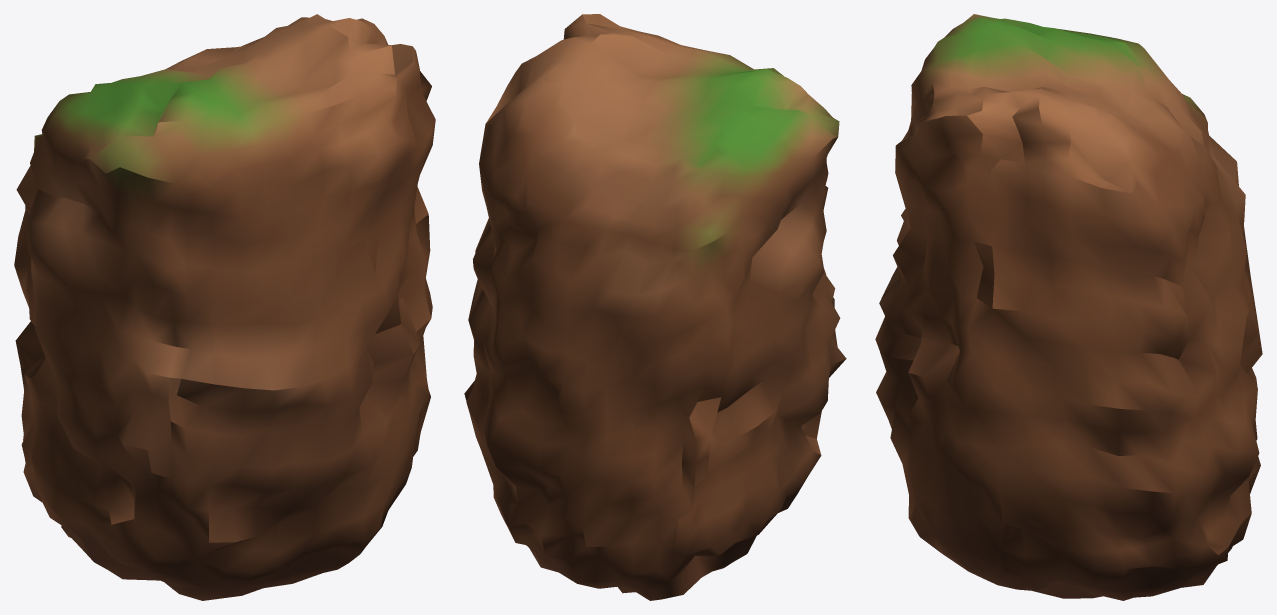
The model's file is canopy_bark_chip_c.glb.
3 renders of one model, left to right at view 1: azimuth 30°, elevation 25°; view 2: azimuth 150°, elevation 25°; view 3: azimuth 270°, elevation 25°, orthographic. The views are drawn at different scales.
Visible parts, largest first — view 1: canopy_bark_chip_c; view 2: canopy_bark_chip_c; view 3: canopy_bark_chip_c.
Part boxes in pixels (<box>): canopy_bark_chip_c: <box>14,14,435,600</box>; canopy_bark_chip_c: <box>464,14,846,600</box>; canopy_bark_chip_c: <box>875,14,1262,600</box>.
Bounding box in the file's own units: 3.06 × 4.51 × 2.9.
